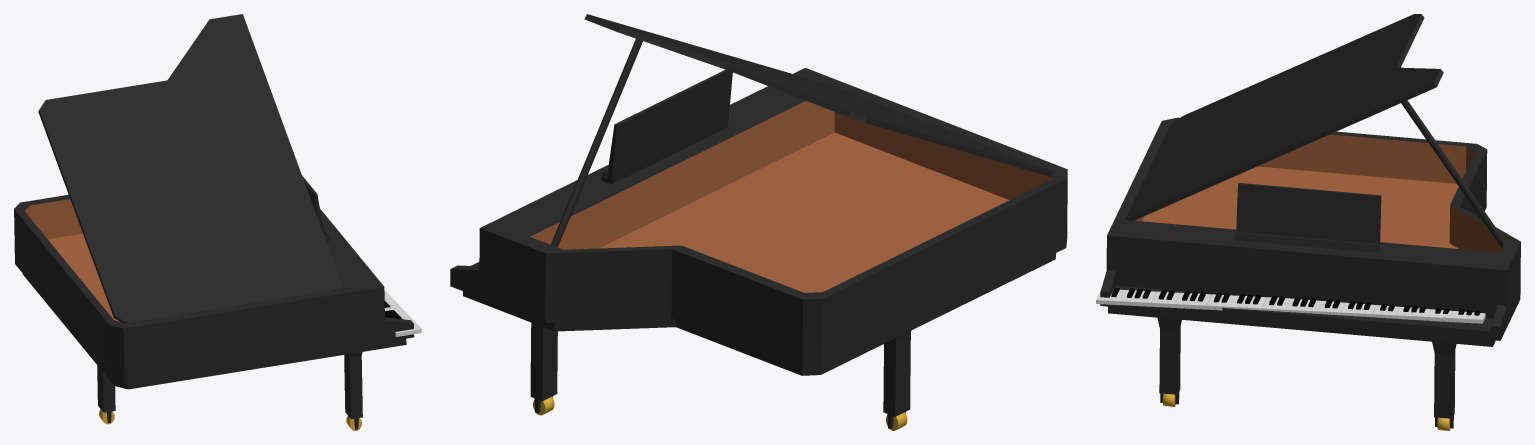
Rendered from Piano.fbx.
3 renders of one model, left to right at view 1: azimuth 30°, elevation 25°; view 2: azimuth 150°, elevation 25°; view 3: azimuth 270°, elevation 25°, orthographic. The views are drawn at different scales.
Visible parts, largest first — view 1: Cube.002; view 2: Cube.002; view 3: Cube.002.
Boxes of the visible parts, x1=… form: Cube.002: x1=14, y1=14, x2=414, y2=430; Cube.002: x1=450, y1=14, x2=1067, y2=430; Cube.002: x1=1100, y1=14, x2=1520, y2=430.
Bounding box in the file's own units: 285 × 264 × 304.
